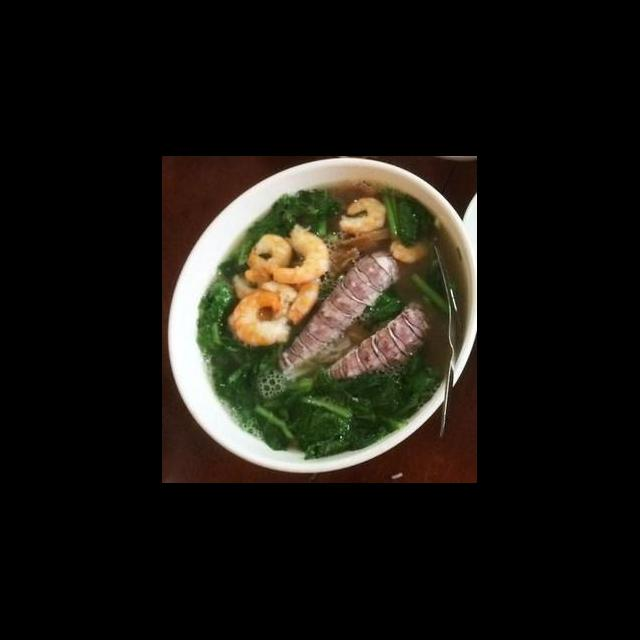tom: (226, 288, 296, 352), (268, 222, 334, 288), (244, 230, 300, 278), (334, 194, 390, 236)
tom tit: (276, 246, 408, 378), (318, 296, 440, 386)
